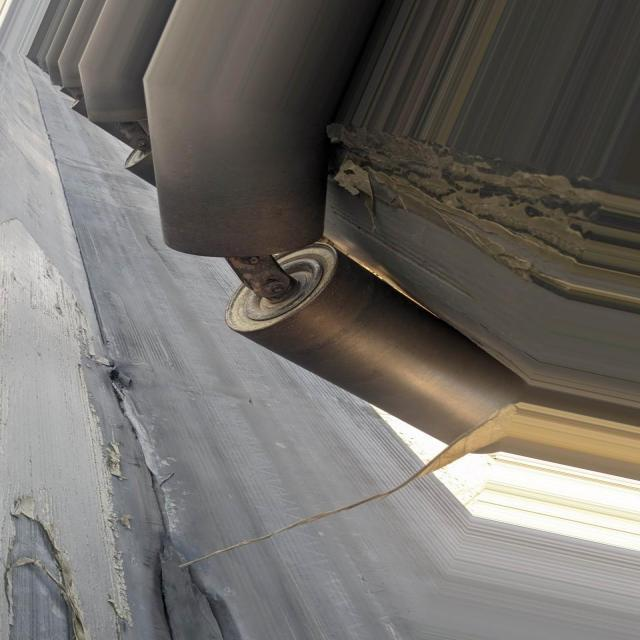Tear: (87, 353, 200, 640), (7, 514, 82, 636)
